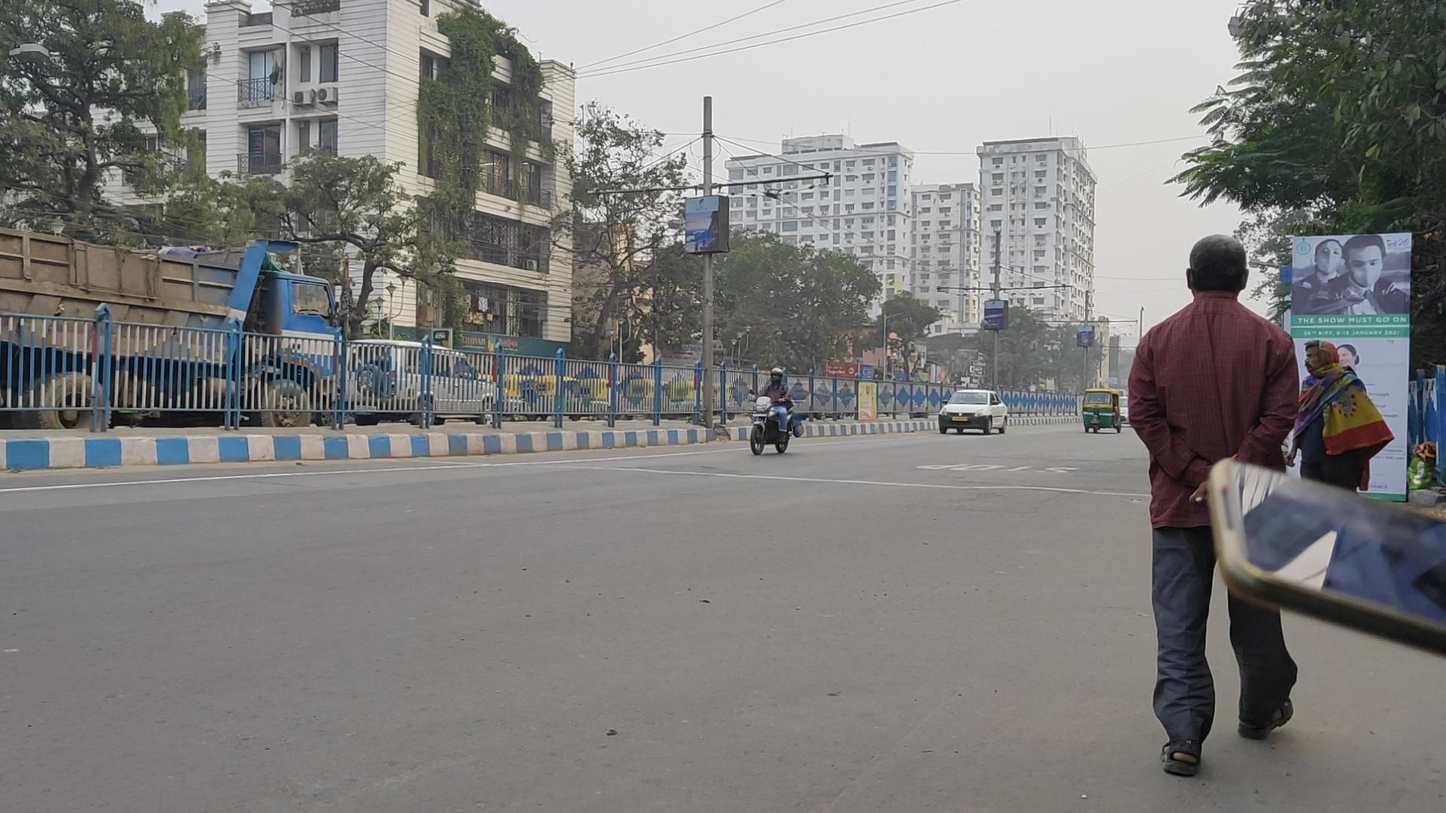Auto: (1082, 388, 1122, 434)
bike: (749, 367, 797, 455)
car: (938, 388, 1008, 435)
